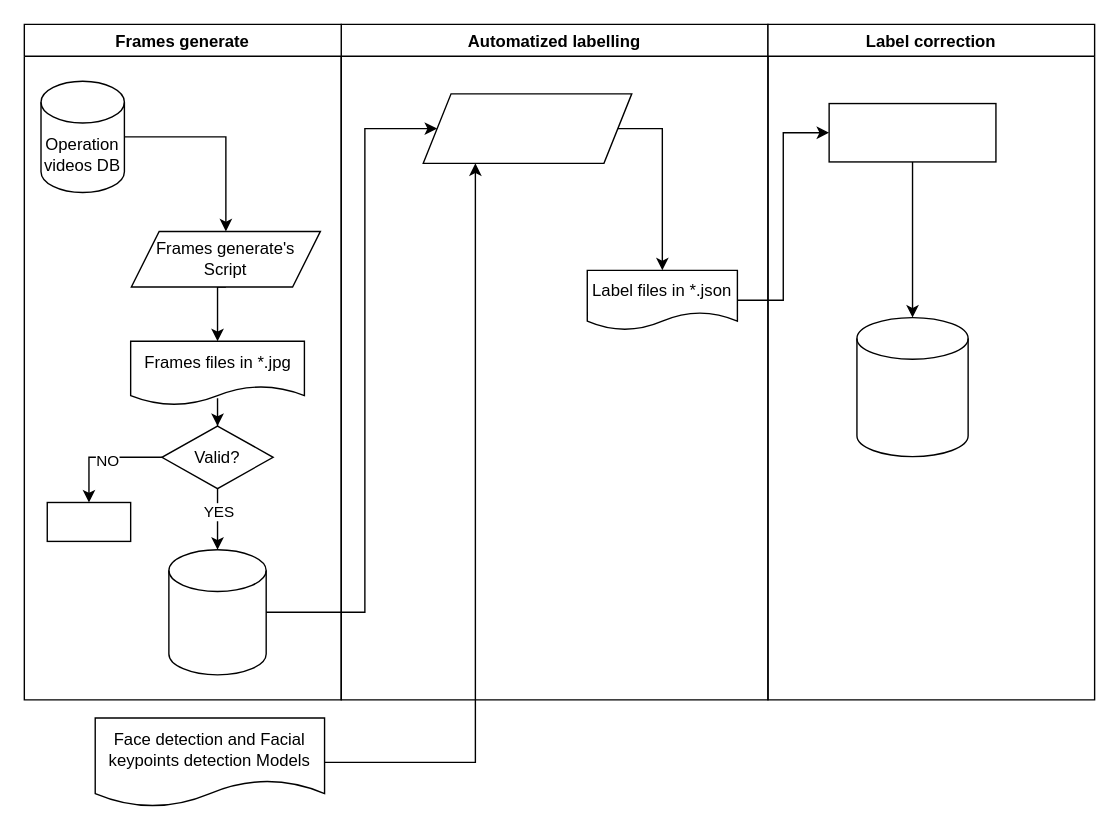
Some shapes in this 1119 by 831 pixel diagram are drawn without their labels. Each missing label, with the box of its shape:
Automatized labelling Script: (422, 92, 632, 163)
Delete: (46, 501, 131, 541)
Frames DB: (167, 548, 266, 675)
Labels DB: (856, 316, 968, 457)
Manual label correction: (828, 102, 996, 162)
